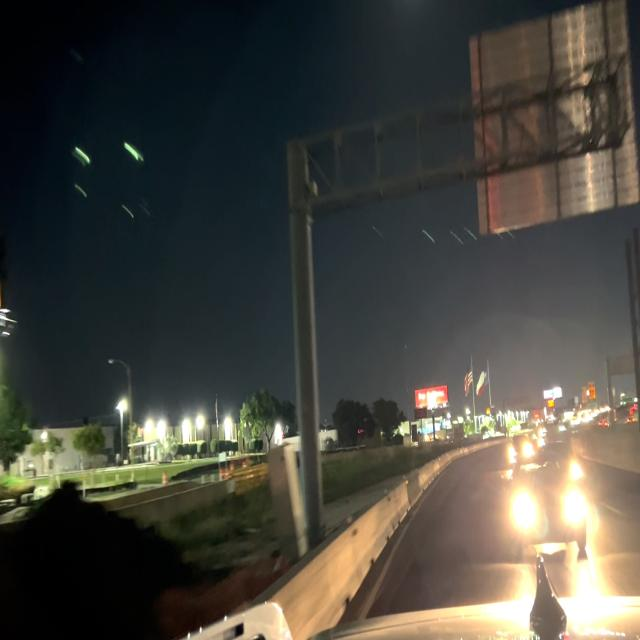back-of-sign: (464, 0, 640, 245)
